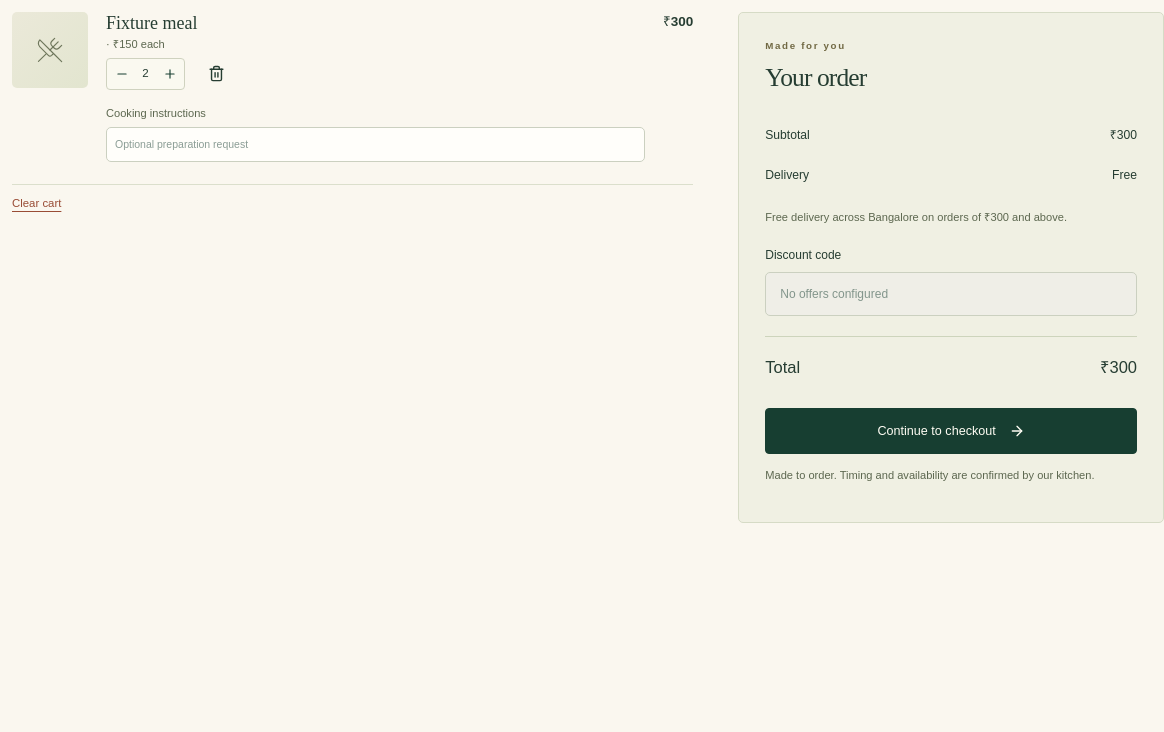
Test case: removes an item and returns to the empty-cart state
The image size is (1164, 732).
Click the button named "Remove Fixture meal".
click(216, 74)  # box [196,54,236,94]
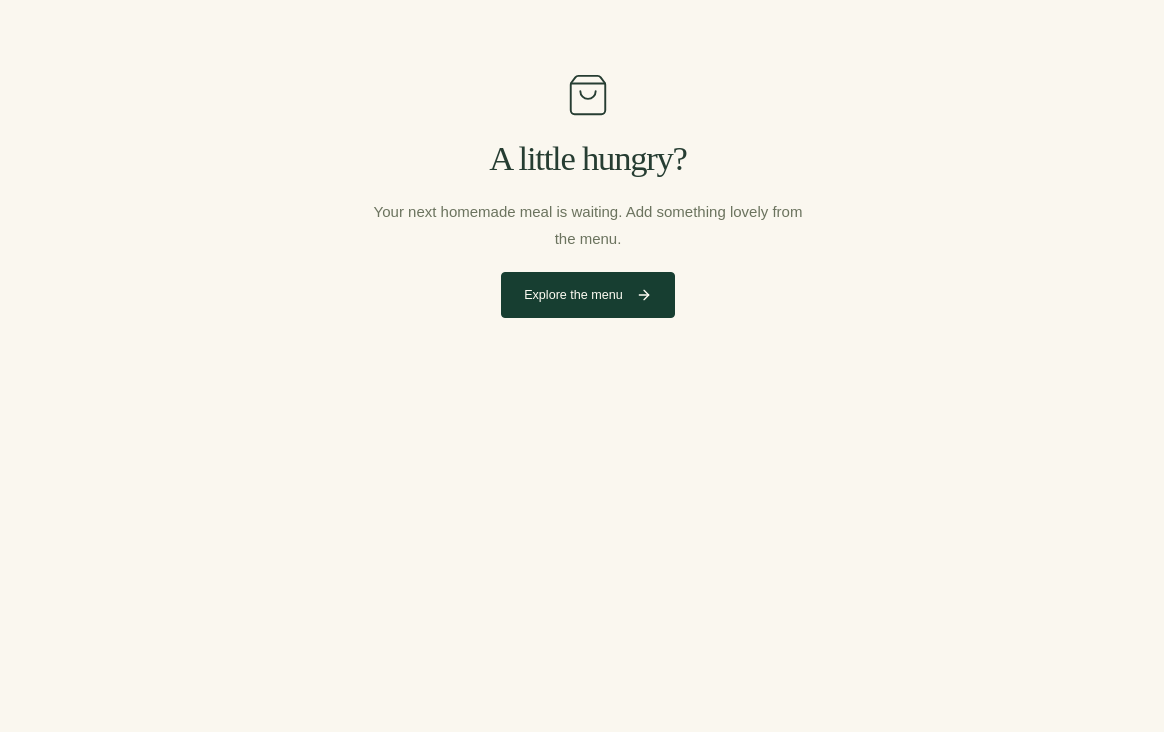
Now the heading "A little hungry?" is shown, box [489,138,687,180]
